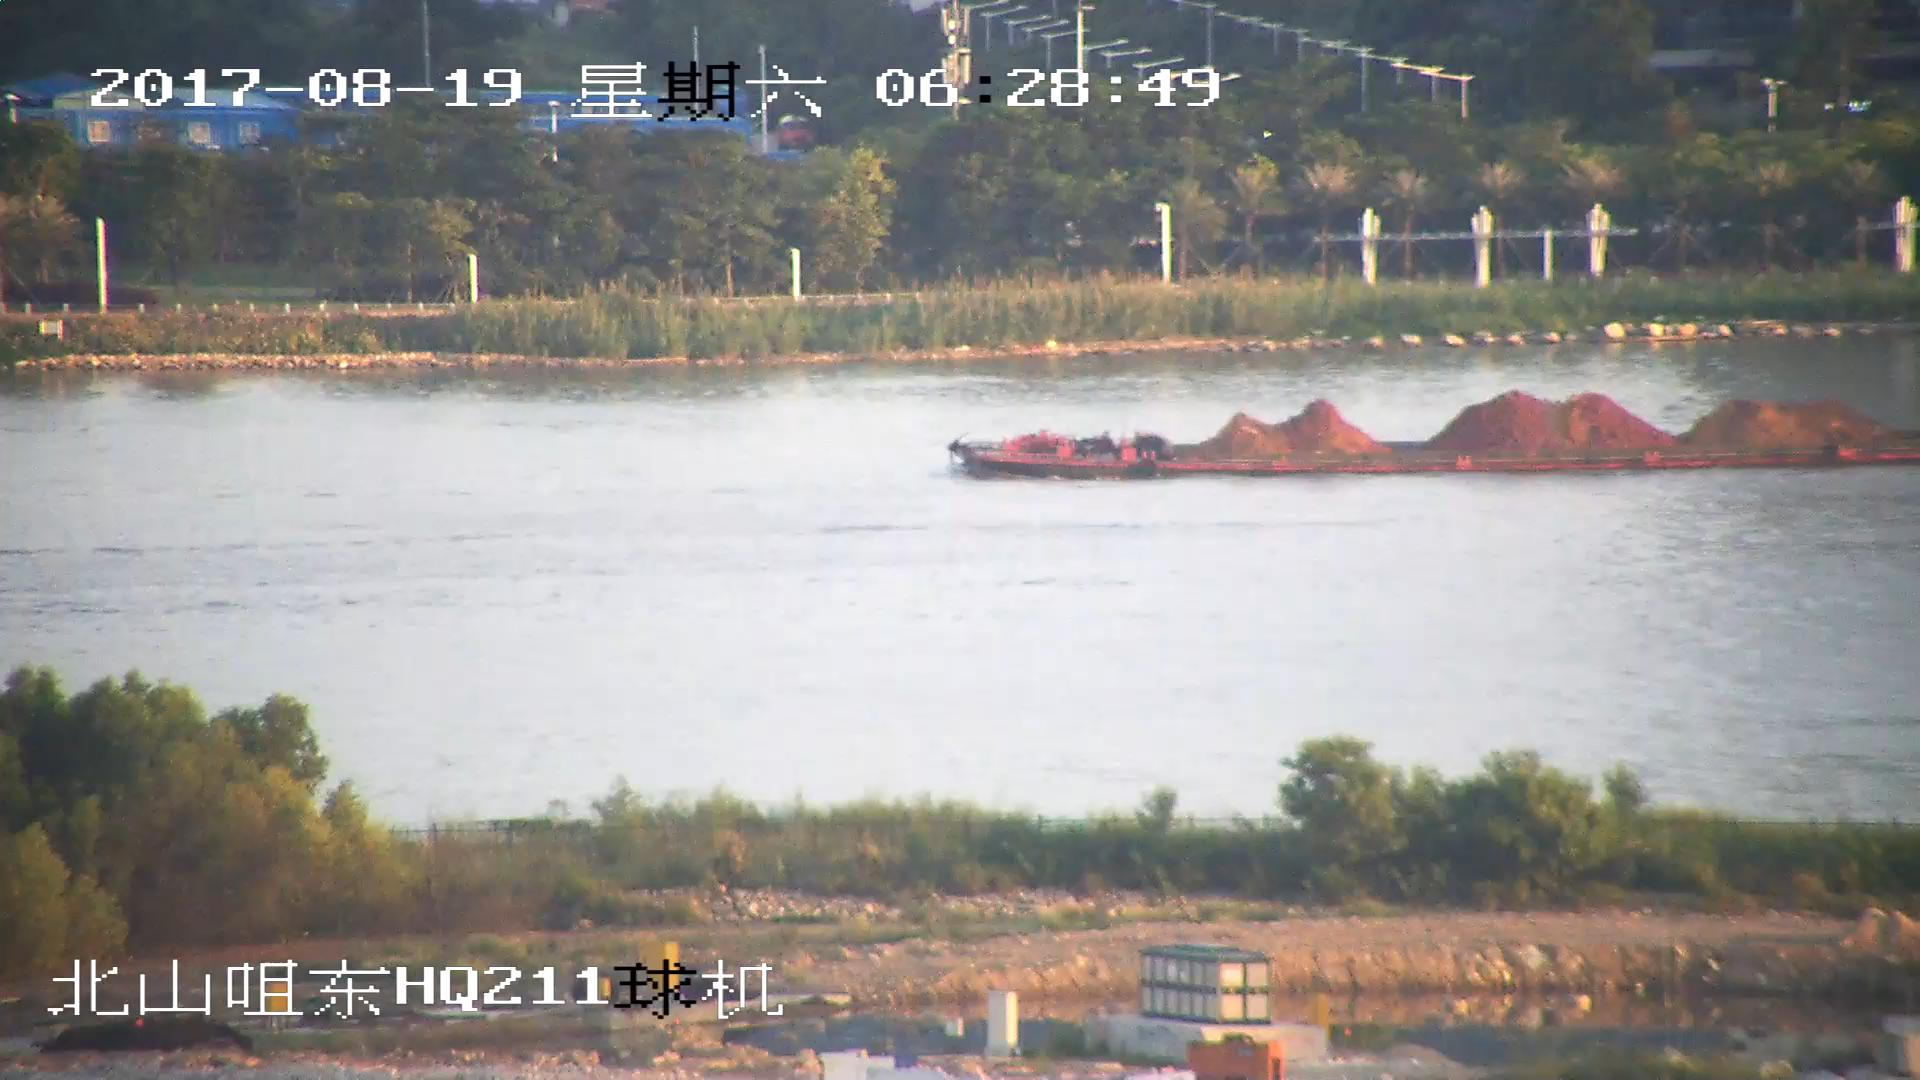ore carrier: (952, 382, 1920, 481)
